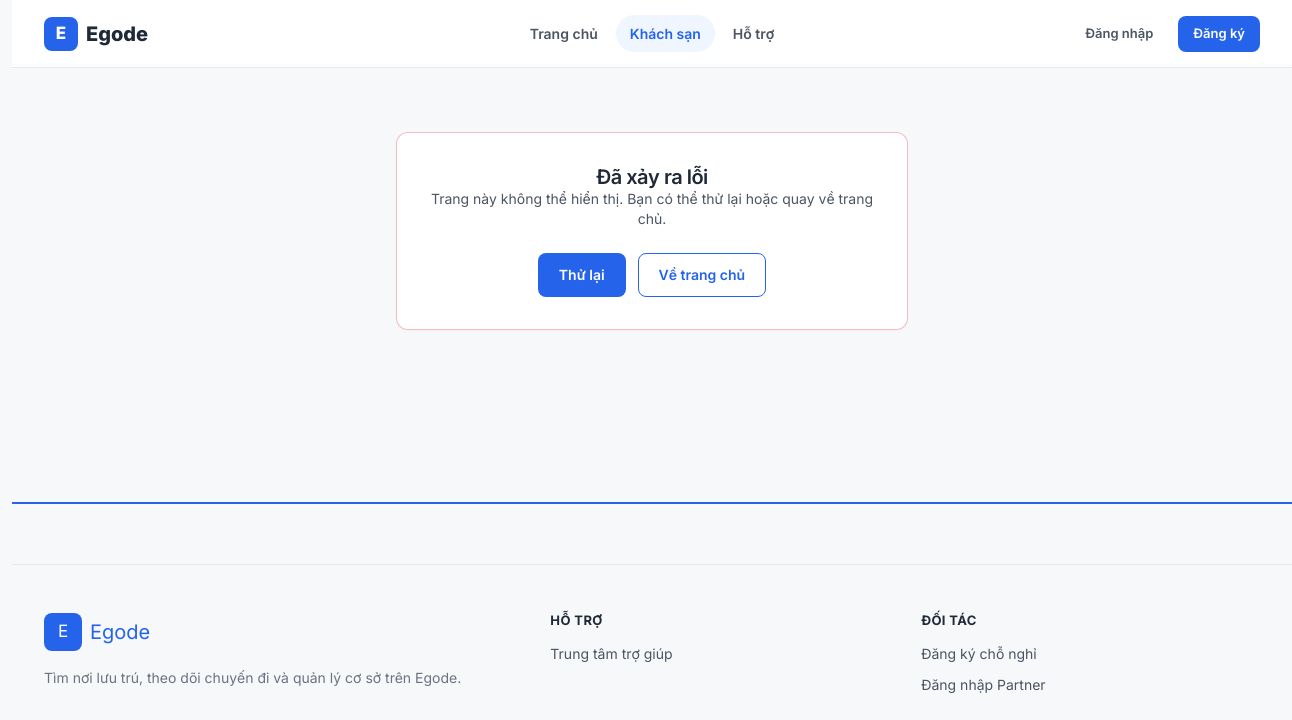
Test case: MainLayout › keeps the navbar when the current page crashes, and recovers after navigating away
Expected: the message shows "Đã xảy ra lỗi", [596, 165, 708, 189]
Step 1. Click the link "Trang chủ" → coordinates (564, 34), box [530, 25, 598, 42]
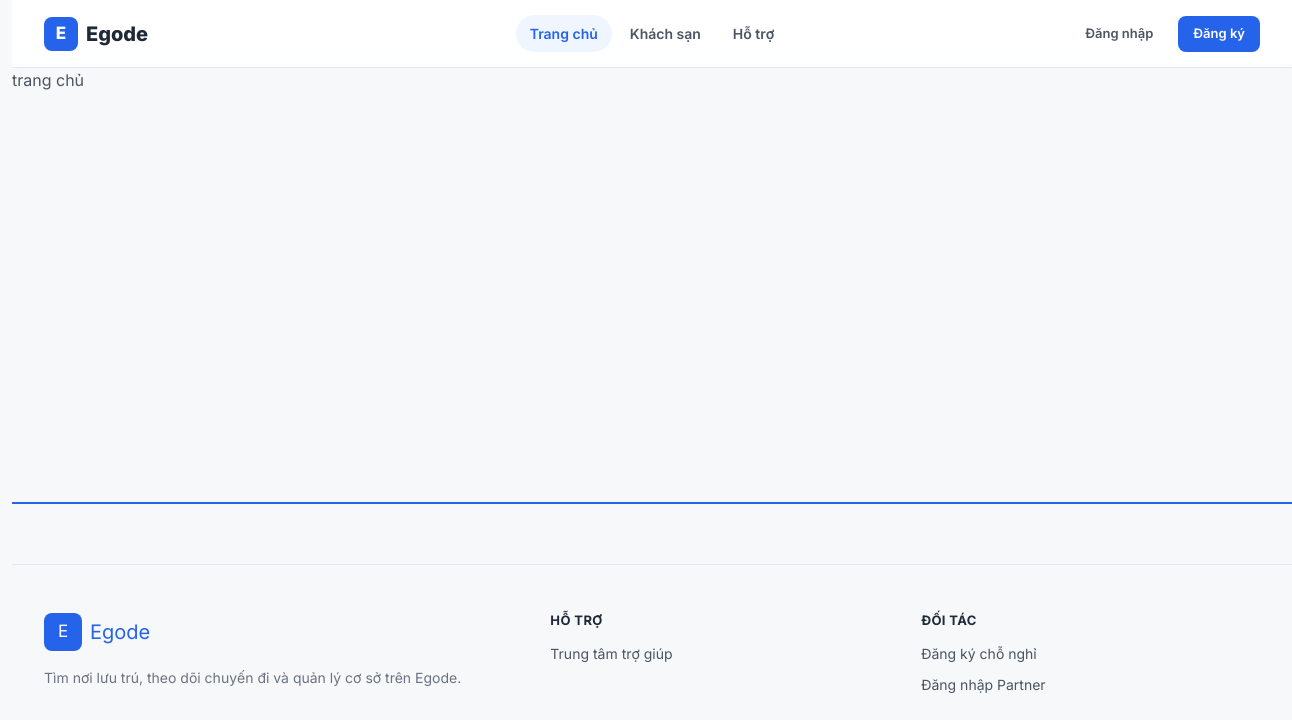
Expected: the text "trang chủ" is shown, [12, 70, 84, 90]
Expected: the message is gone
